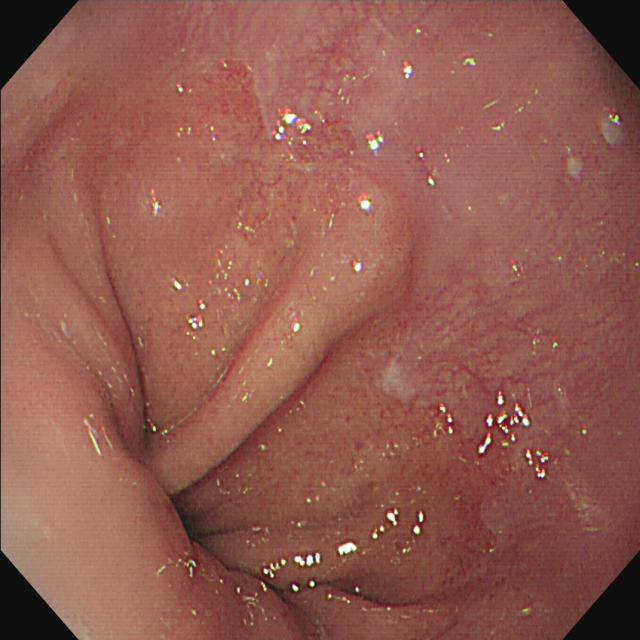E: (172, 497, 207, 545)
I: (30, 56, 516, 634)
U: (259, 508, 427, 594), (478, 391, 550, 481), (275, 109, 312, 147), (366, 130, 385, 153), (358, 195, 374, 213)
